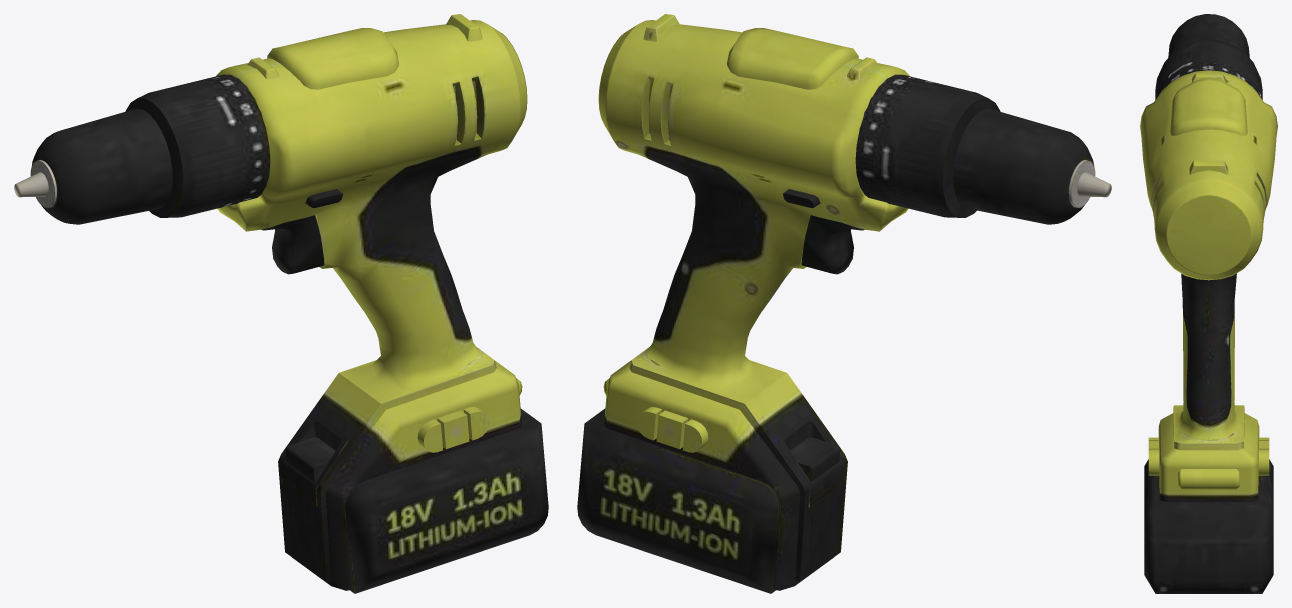
The model's file is drill.glb.
The picture shows the model from 3 angles, left to right: view 1: azimuth 30°, elevation 25°; view 2: azimuth 150°, elevation 25°; view 3: azimuth 270°, elevation 25°; orthographic projection. The views are drawn at different scales.
Parts seen in each view (by area): view 1: Drill_01; view 2: Drill_01; view 3: Drill_01.
Boxes of the visible parts, x1,y1,x2,y2 form: Drill_01: (14, 14, 548, 593); Drill_01: (577, 14, 1111, 593); Drill_01: (1140, 14, 1277, 593).
Bounding box in the file's own units: 0.1829 × 0.1851 × 0.0524.
Materials: 1 (1 with a texture image).
